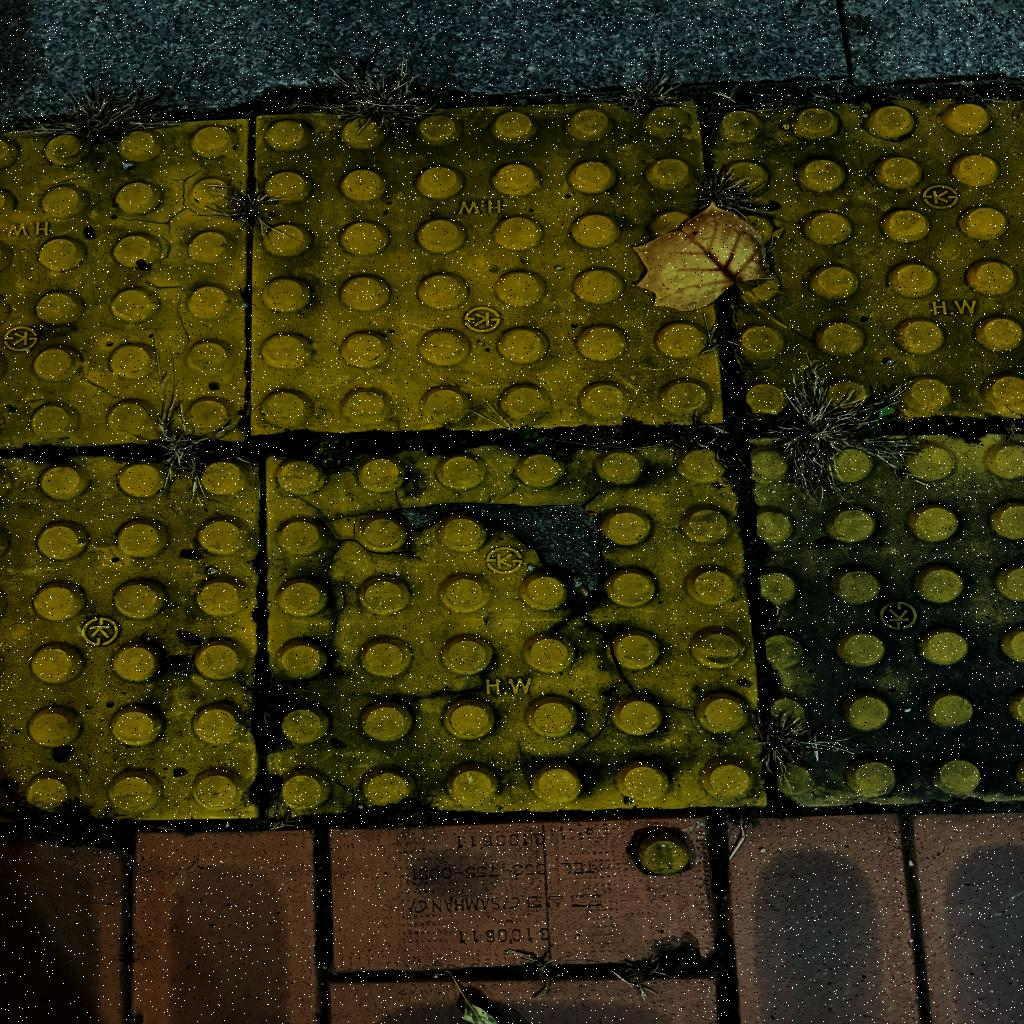Stop block broken: (269, 457, 744, 811)
Stop block normal: (247, 103, 716, 429)
